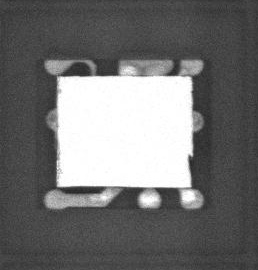DIE_INK: (56, 75, 64, 187)
